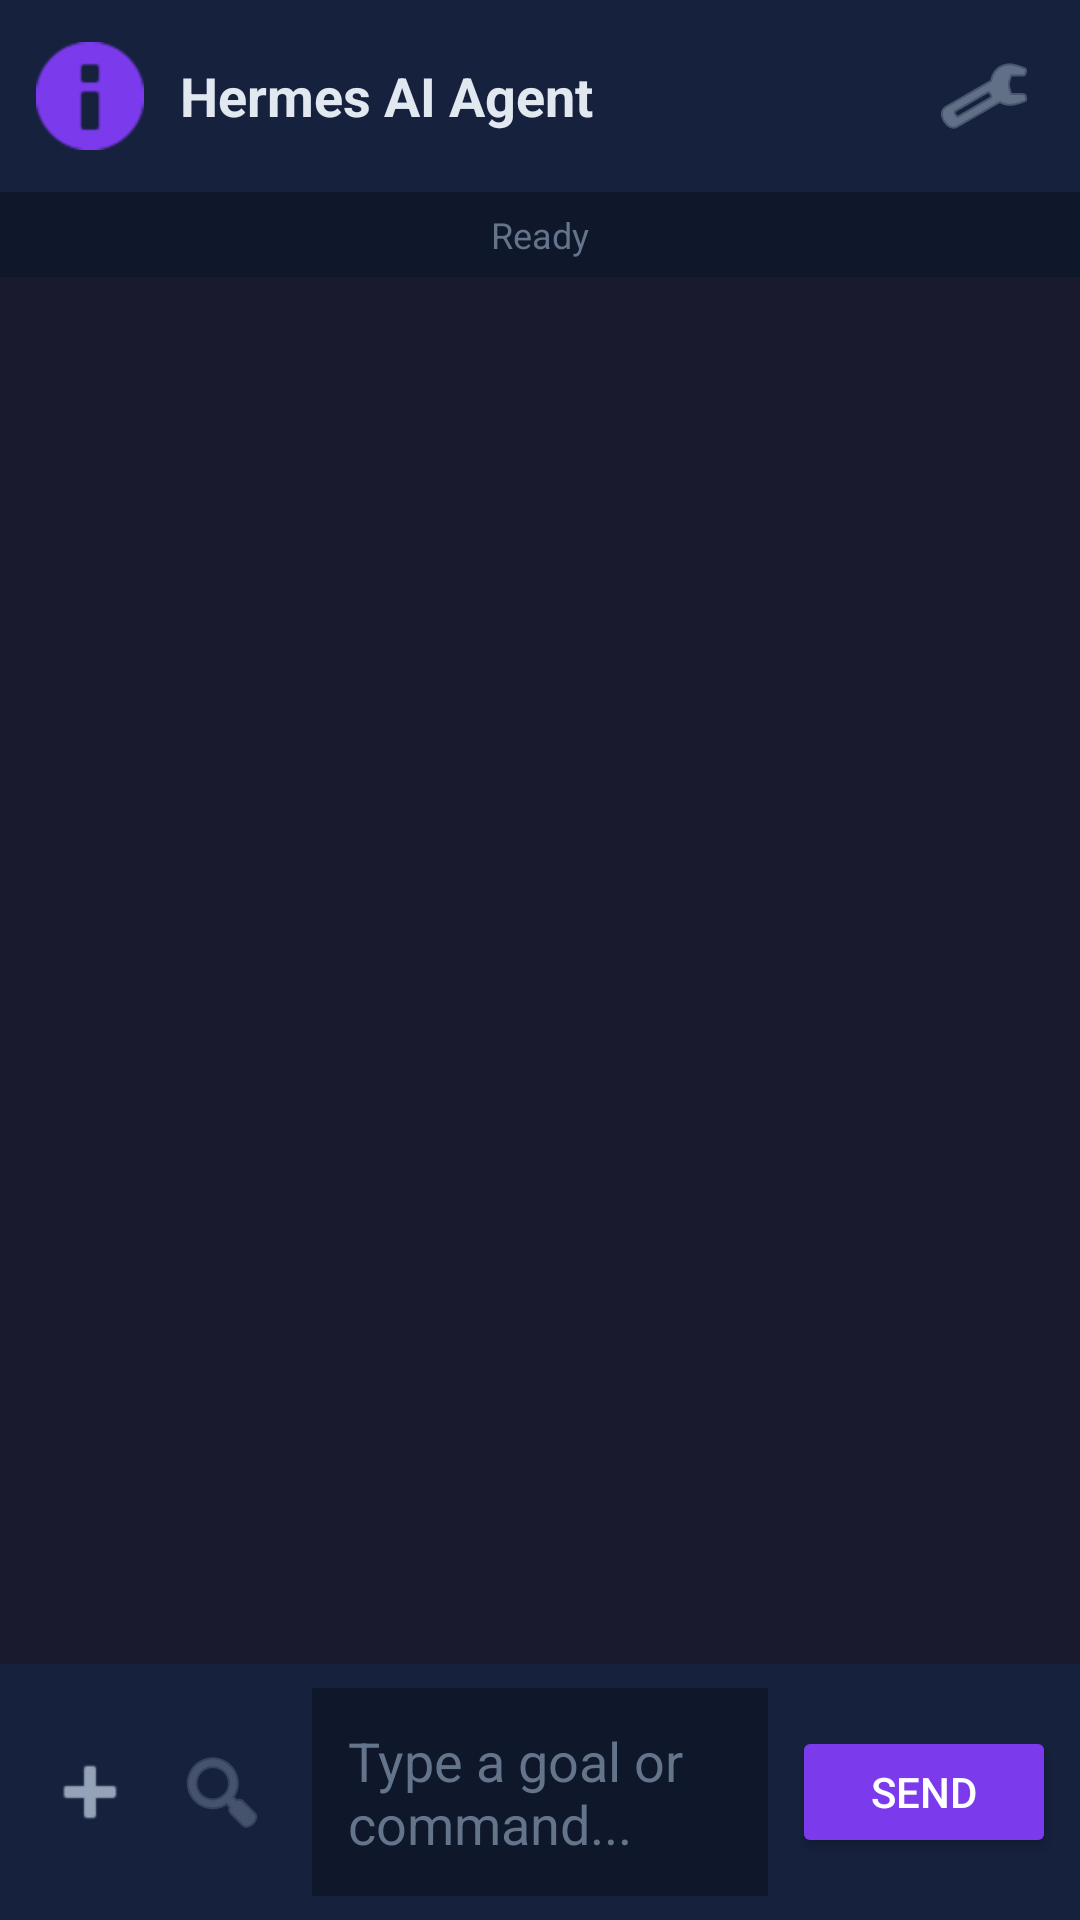

Locate icon controls on the screen. Image size 1080 × 1920, boxes as (x1, y1, x2, y2).
Attach file: (63, 1765, 117, 1819)
info: (36, 42, 144, 150)
manage: (941, 63, 1027, 129)
